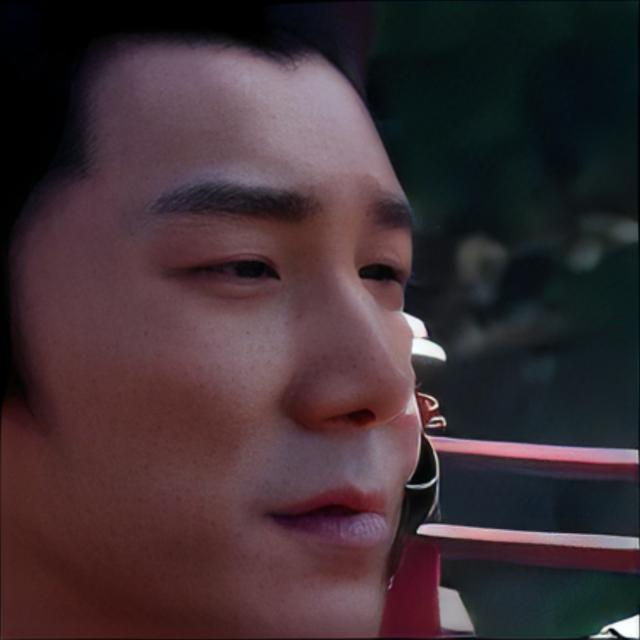sad: (0, 35, 427, 640)
